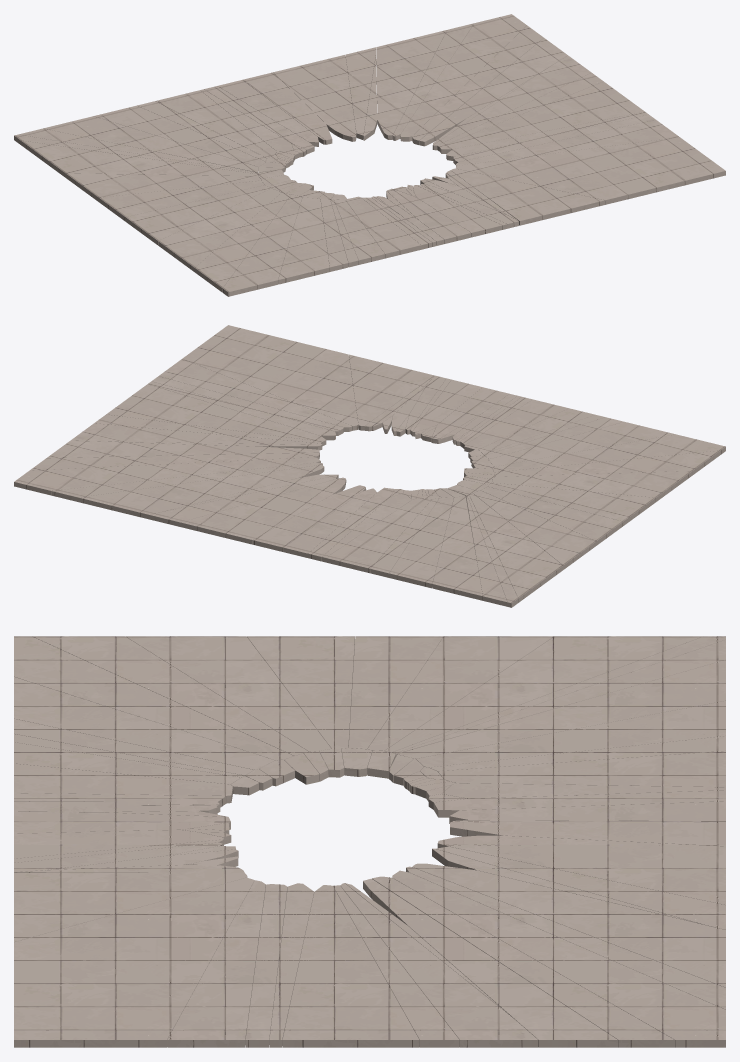
File: broken_Floor.fbx
3 renders of one model, top to bottom at view 1: azimuth 30°, elevation 25°; view 2: azimuth 150°, elevation 25°; view 3: azimuth 270°, elevation 25°, orthographic. The views are drawn at different scales.
Visible parts, largest first — view 1: Cube_cell.084; view 2: Cube_cell.084; view 3: Cube_cell.084.
Boxes of the visible parts, bbox=[...] form: Cube_cell.084: bbox=[14, 14, 725, 296]; Cube_cell.084: bbox=[14, 325, 725, 607]; Cube_cell.084: bbox=[14, 636, 725, 1047].
Bounding box in the file's own units: 549 × 409 × 4.84.
